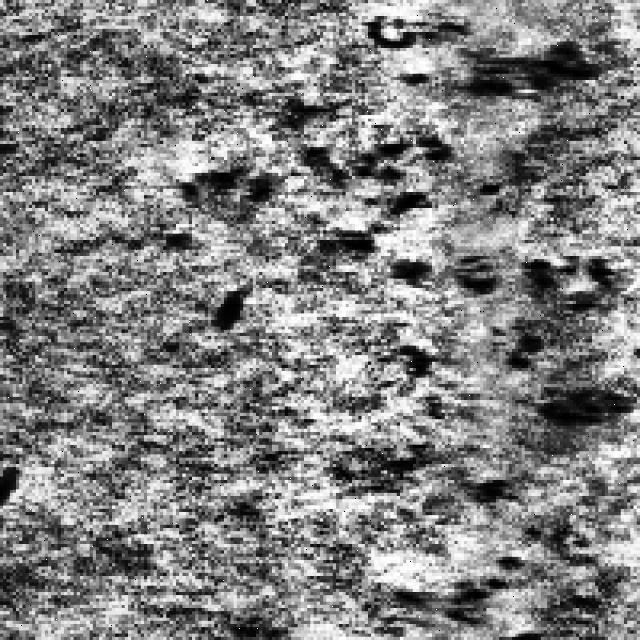Crazing: (374, 250, 624, 624), (154, 125, 452, 282), (362, 0, 592, 106)
